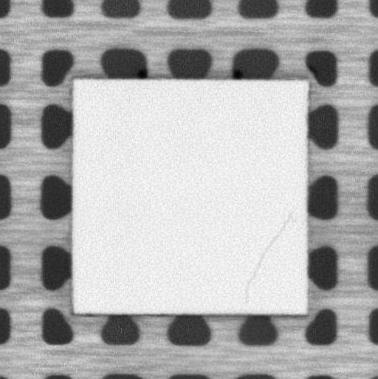DIE_CRACK: (241, 210, 294, 302)
